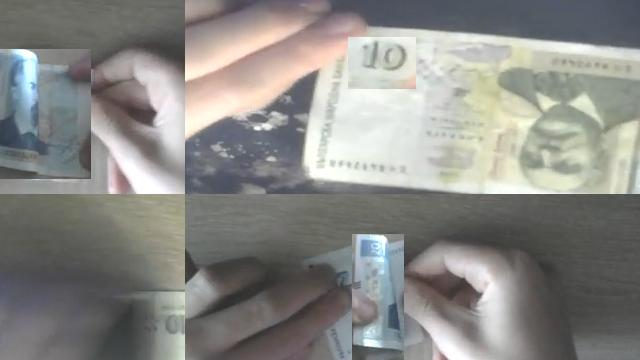10leva: (348, 37, 416, 89)
20leva: (0, 49, 91, 179), (352, 234, 404, 360)
